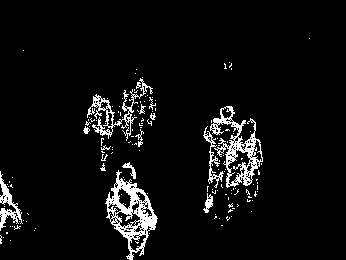person: (104, 159, 160, 260), (203, 104, 237, 214), (227, 116, 261, 221), (75, 91, 118, 172), (119, 86, 150, 150)
